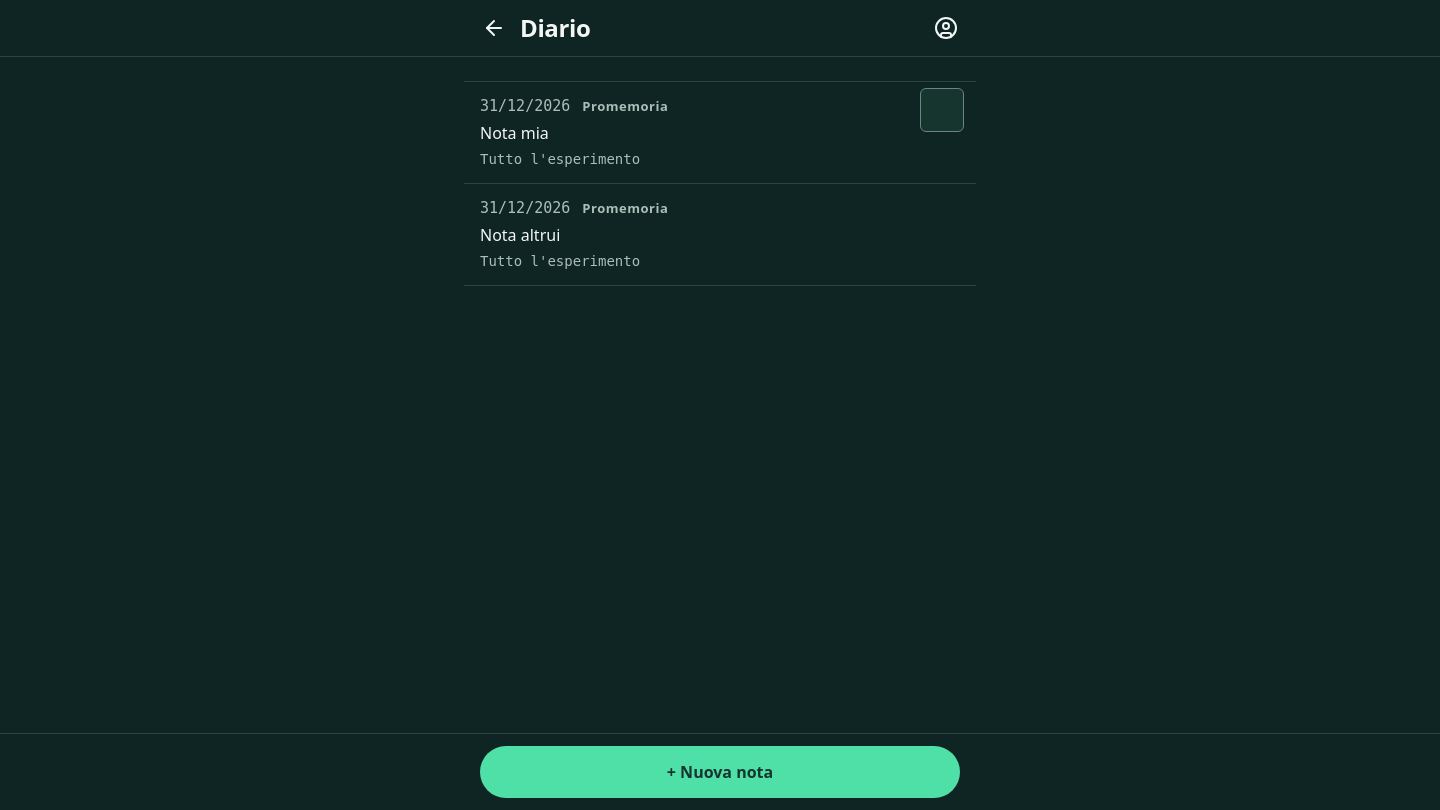
diario per ruolo › il rilevatore: "Nuova nota", e Modifica, Elimina e spunta solo sulle sue
This screenshot has width=1440, height=810.
Expected: the button "+ Nuova nota" is shown, [480,746,960,798]
Expected: the number of buttons named "il promemoria del" is 1, [920,88,964,132]
Click the button "31/12/2026 Promemoria Nota altrui Tutto l'esperimento": (525, 208) [464,184,976,285]
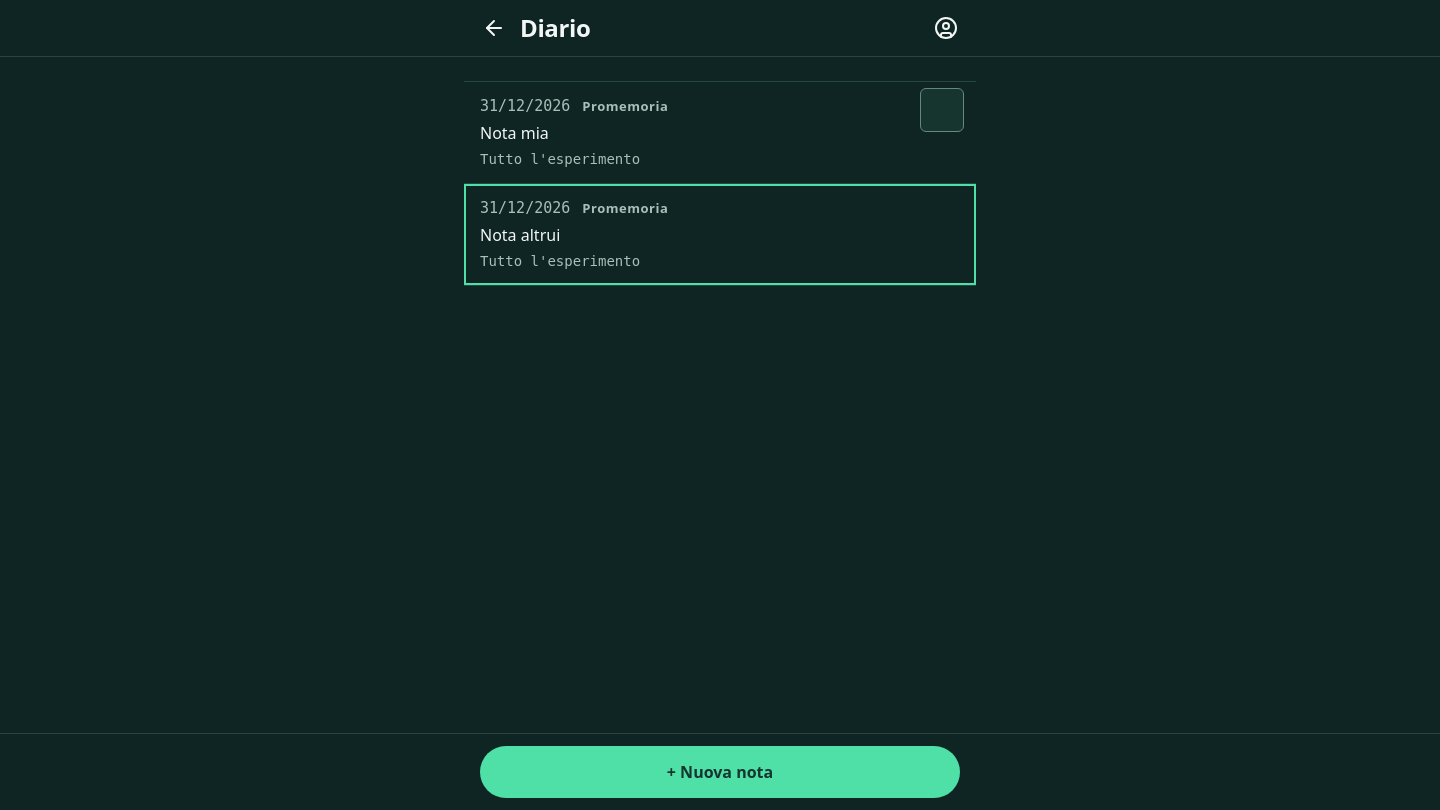
Expected: the button "Modifica" is not shown
Click the button "31/12/2026 Promemoria Nota mia Tutto l'esperimento": (525, 106) [464,82,920,183]
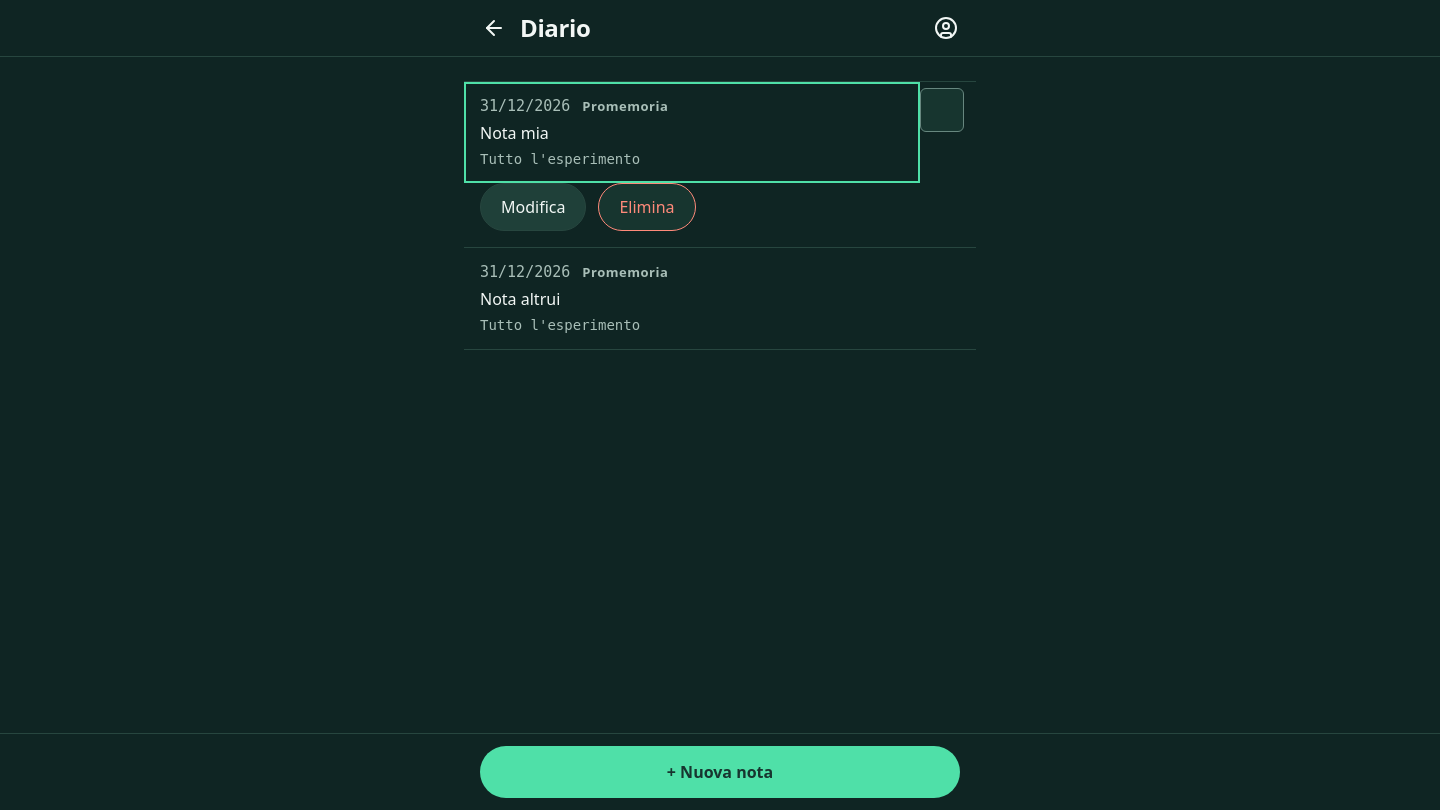
Now the button "Modifica" is shown, box [480,183,586,231]
Now the button "Elimina" is shown, box [598,183,696,231]
